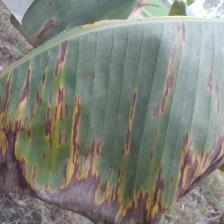sigatoka: (0, 15, 224, 224)
